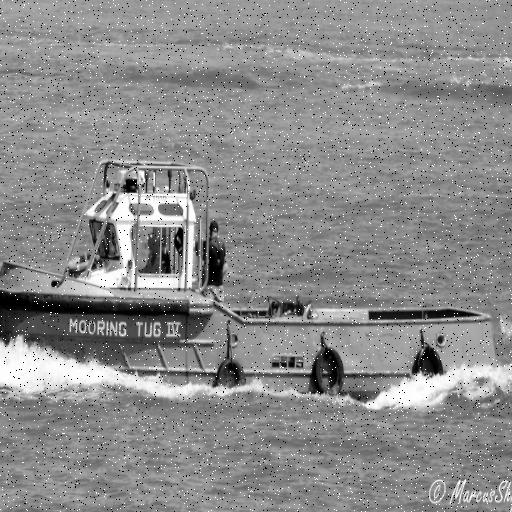tugboat: (1, 140, 502, 412)
